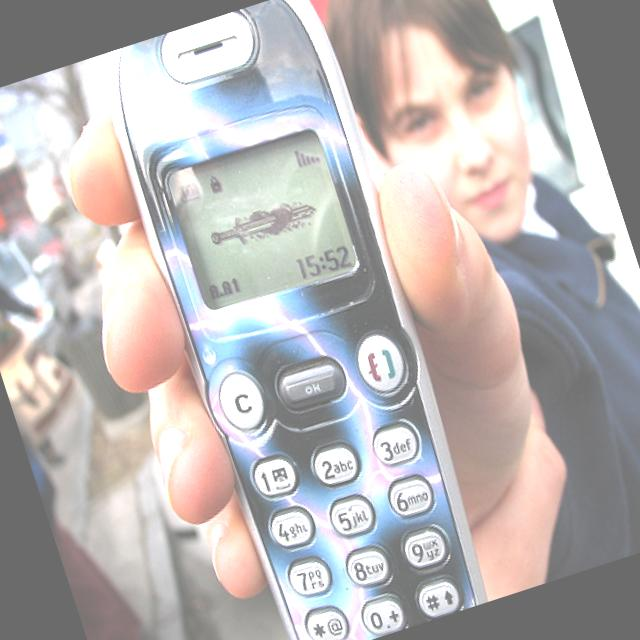Vehicle: (467, 0, 640, 462), (0, 221, 85, 366)
